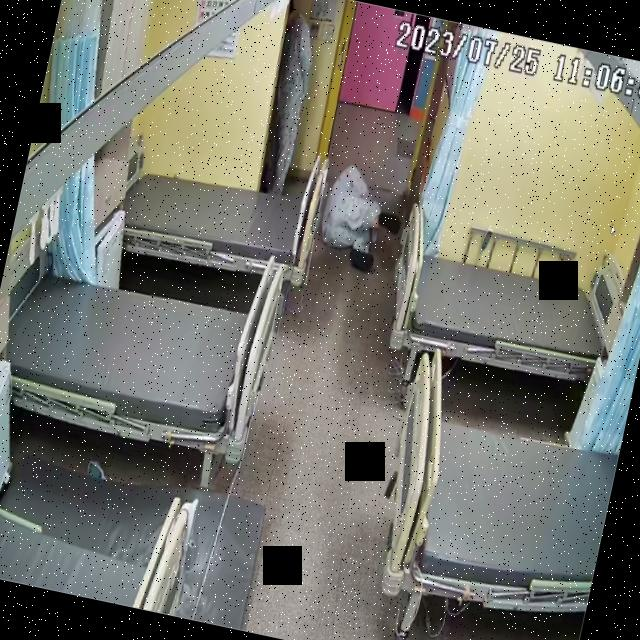bed: (366, 345, 632, 630), (0, 254, 279, 458), (378, 228, 632, 394), (116, 150, 321, 286)
fall: (314, 158, 399, 279)
patient: (253, 0, 328, 195), (312, 157, 400, 279)
stand: (251, 0, 328, 194)
